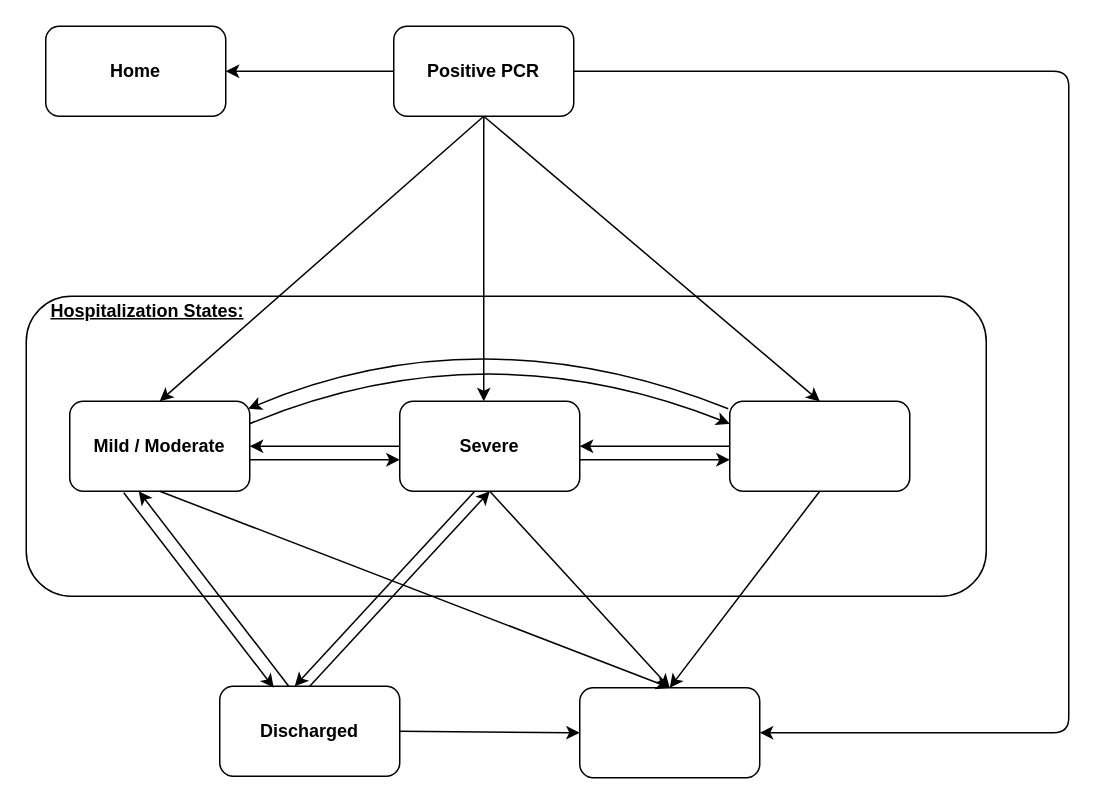
Some shapes in this 1107 by 804 pixel diagram are drawn without their labels. The shapes that lost their labels are listed below. From the top down, each one's box as (x1, y1, x2, y2) in pixels, then its label:
(728, 400, 910, 491): Critical
(578, 686, 760, 778): Deceased
